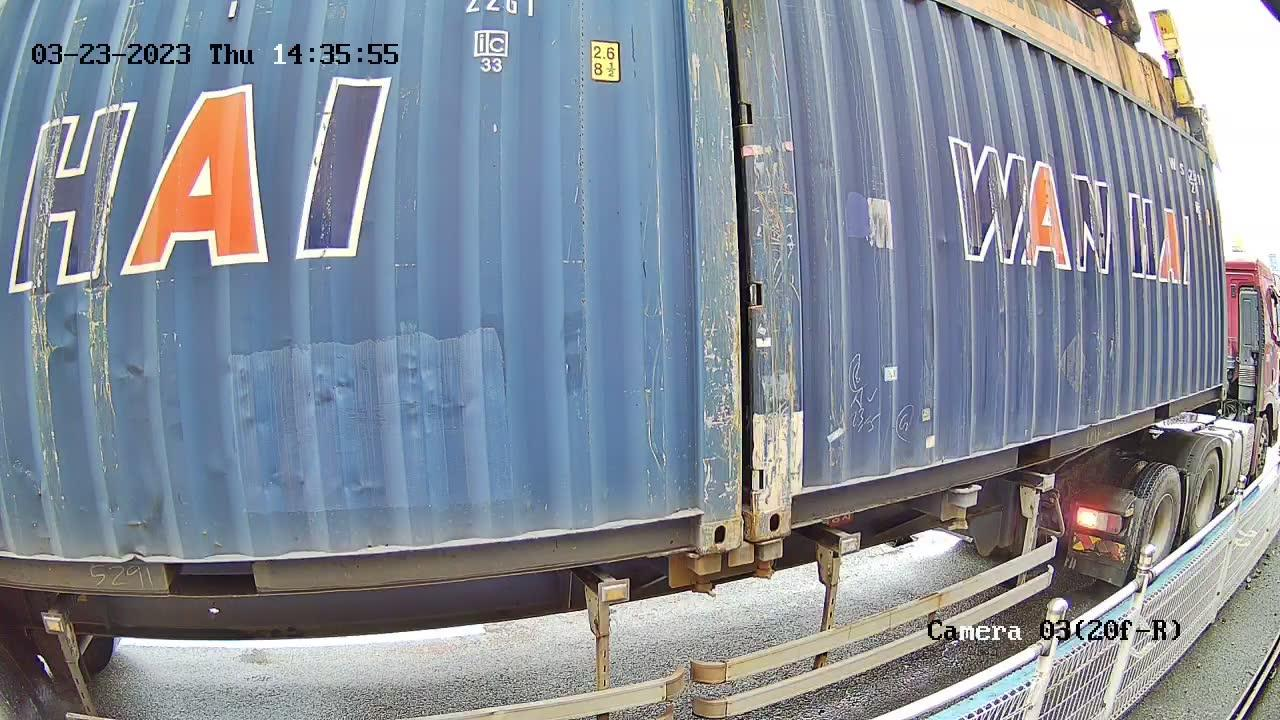Cone: (685, 551, 723, 600), (753, 537, 787, 581)
Hole_L: (753, 464, 817, 543)
Hole_R: (660, 489, 740, 554)
Tire: (1133, 468, 1182, 580), (1187, 448, 1220, 542)
